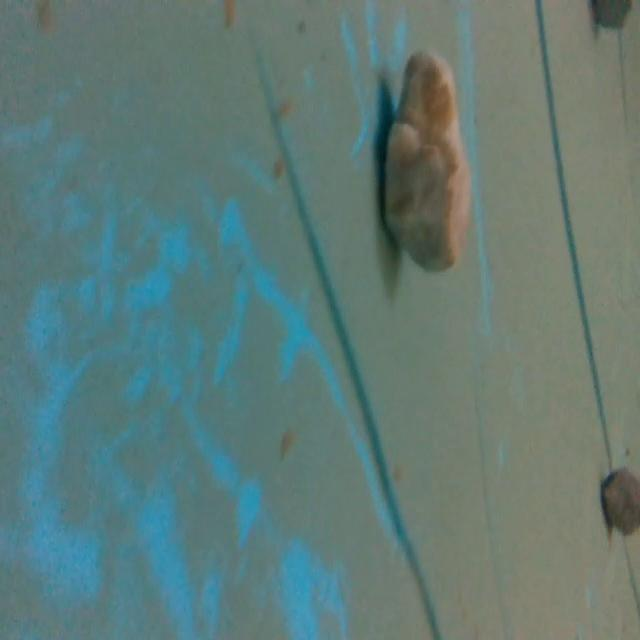rock: (375, 35, 475, 281)
